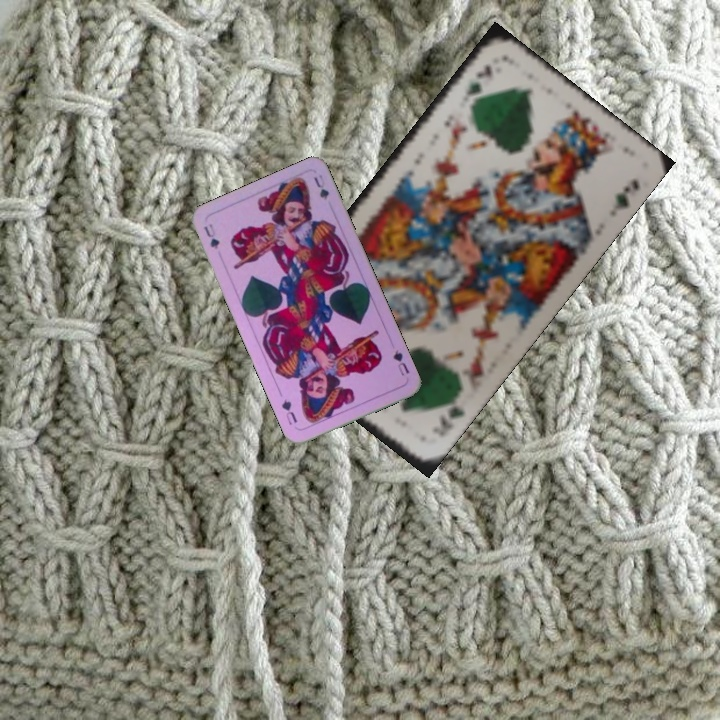GK: (428, 392, 468, 440), (458, 60, 495, 103)
GU: (389, 346, 412, 378), (200, 219, 222, 252)
